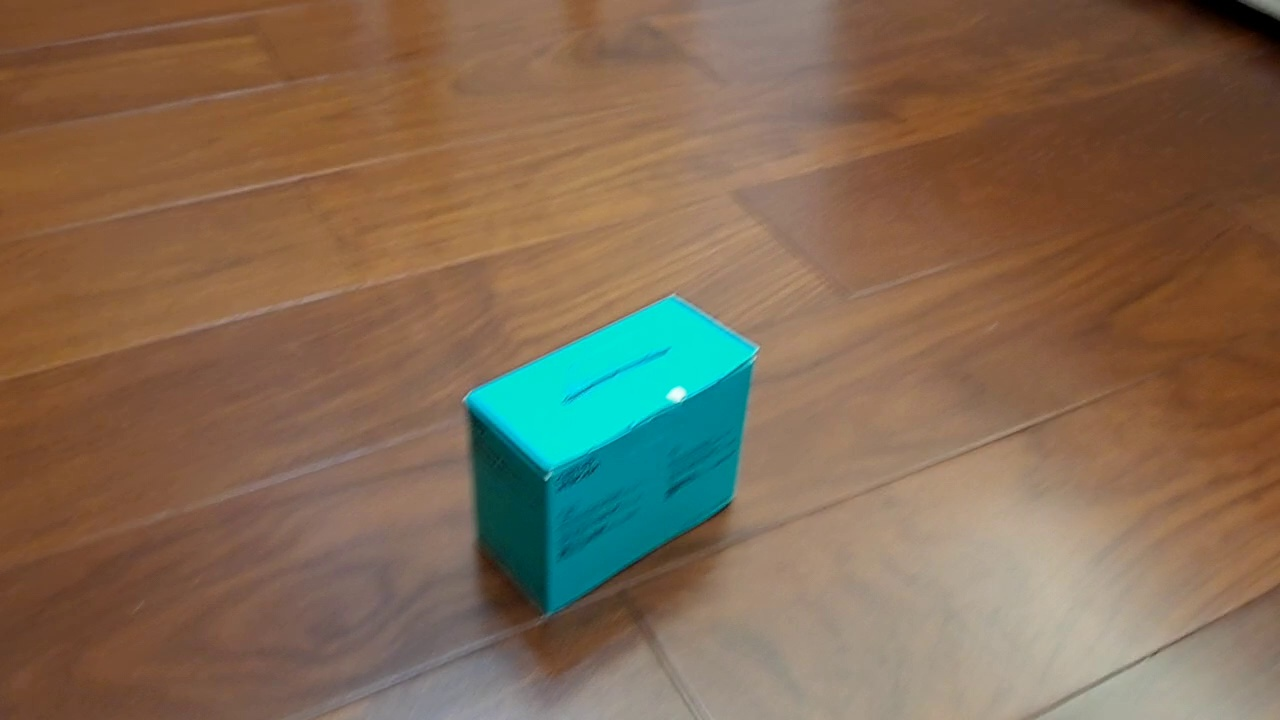webcam: (460, 291, 761, 619)
